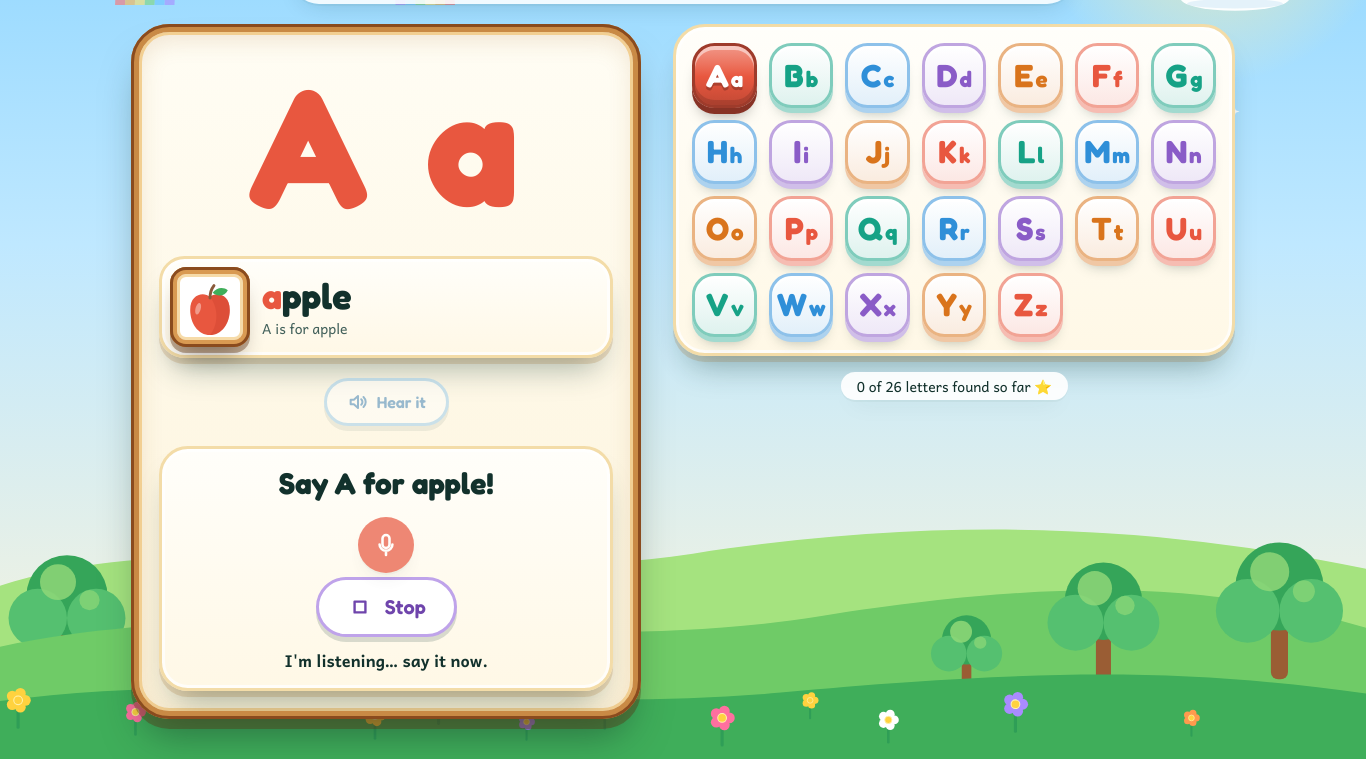
Test case: Letter Playground: the guided lesson › Stop ends listening at once and says nothing; Speak starts it again
(page scrolled)
What coordinates should you click on to do the following:
click the button with aria-label "Stop listening"
I would click on:
 (386, 607)
Its box is [316, 577, 457, 637].
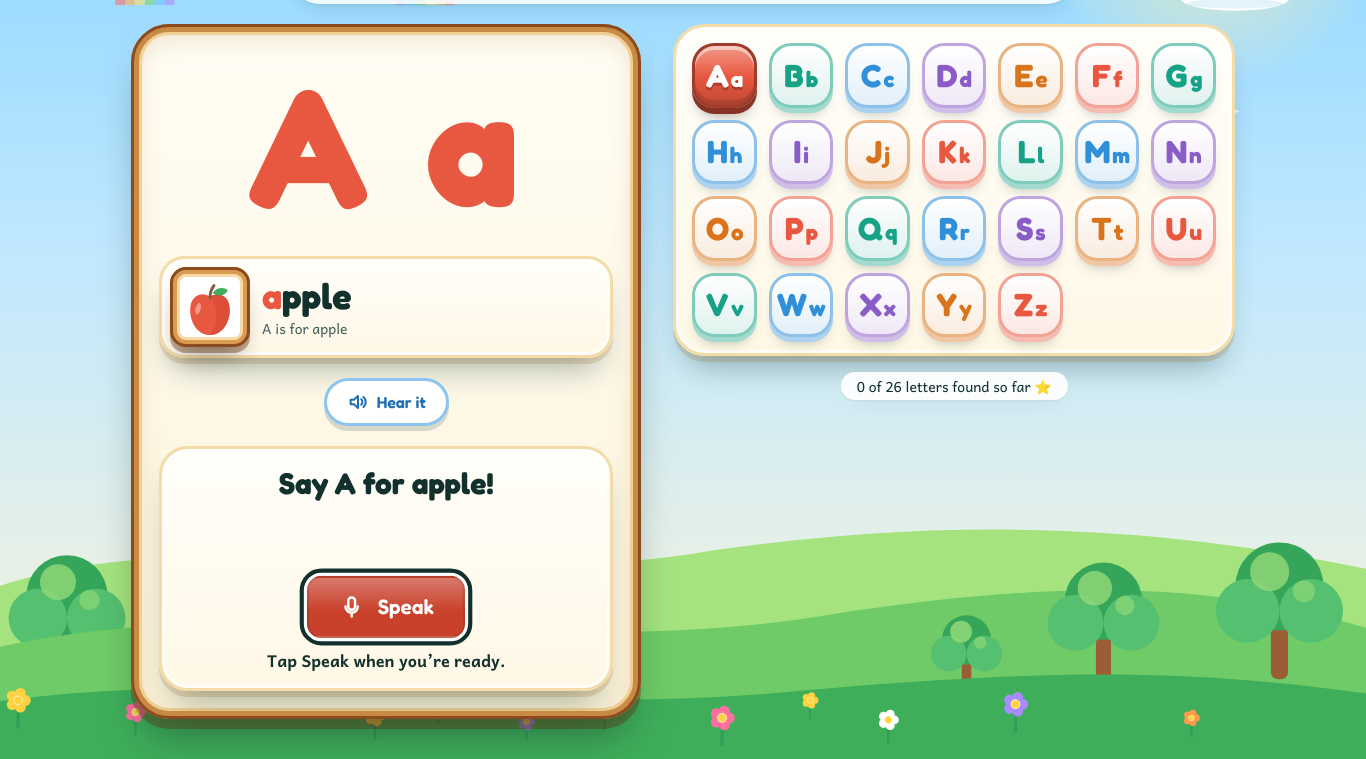
Now the message with test id "lesson-status" reads "Tap Speak when you’re ready.", box [267, 647, 505, 673]
What coordinates should you click on to do the following:
click the button "Speak"
I would click on:
 (386, 607)
Its box is [307, 576, 465, 639].
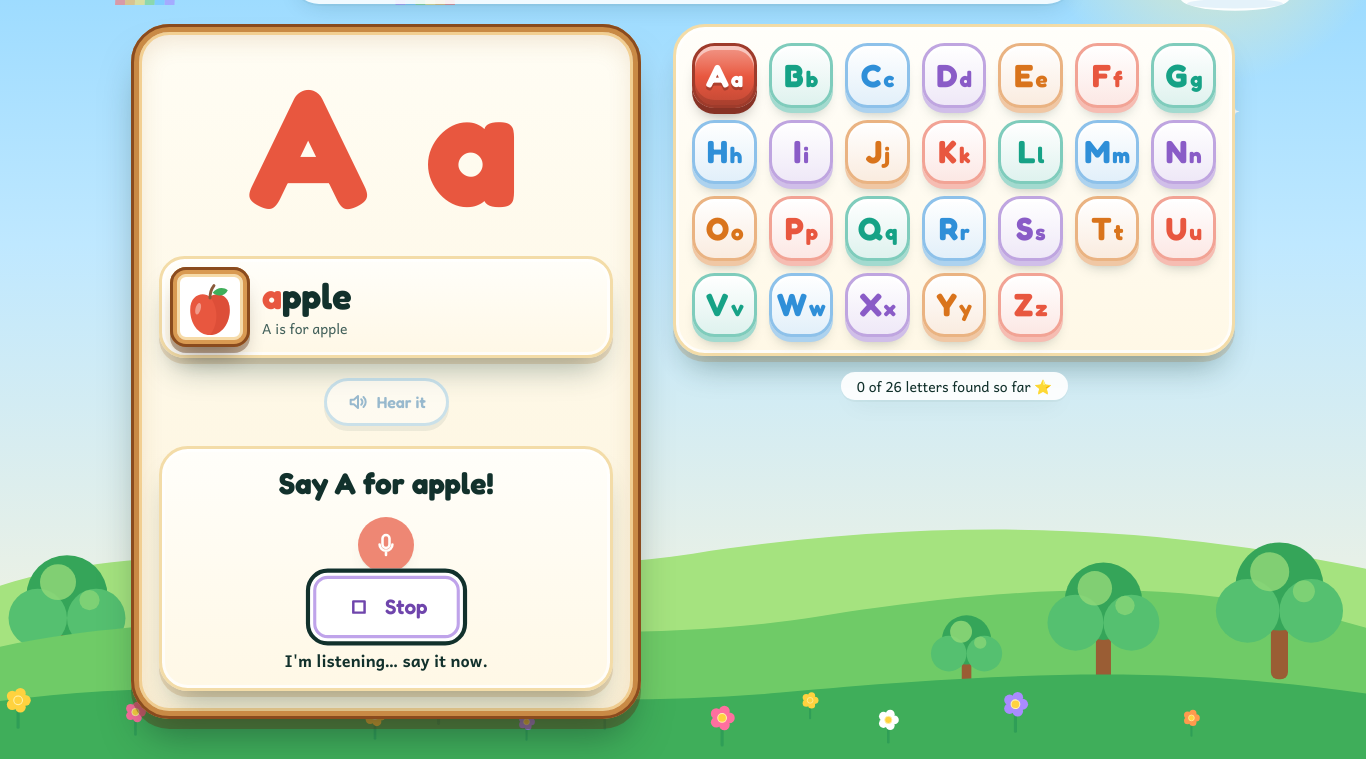
Now the button with aria-label "Stop listening" is shown, box [313, 576, 460, 639]
